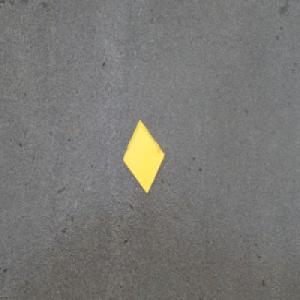PlasticPart: (122, 117, 165, 195)
